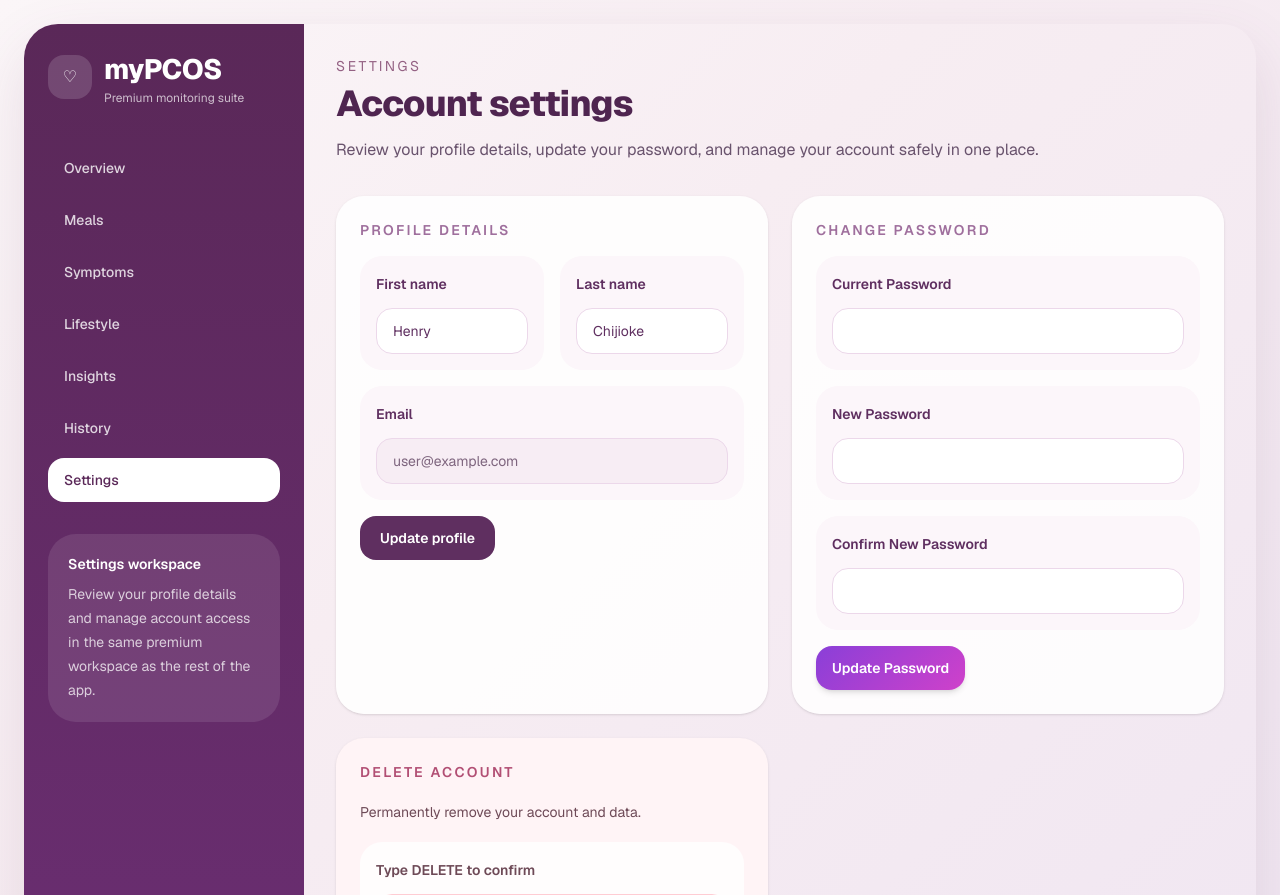
Test: submits the profile details form
Replace the text in the field labelled "First name" with "Ada" at (452, 331), box [376, 308, 528, 354]
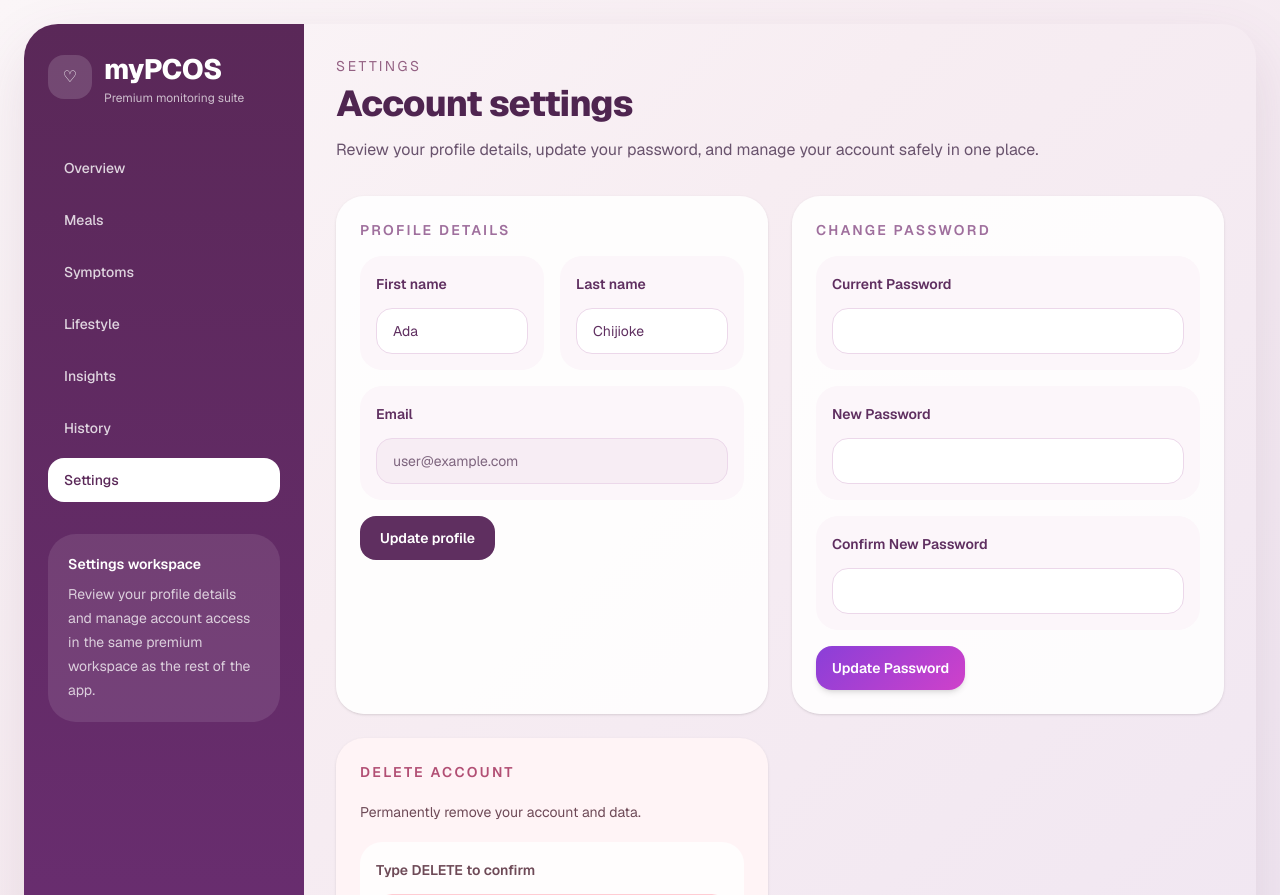
Replace the text in the field labelled "Last name" with "Okafor" at (652, 331), box [576, 308, 728, 354]
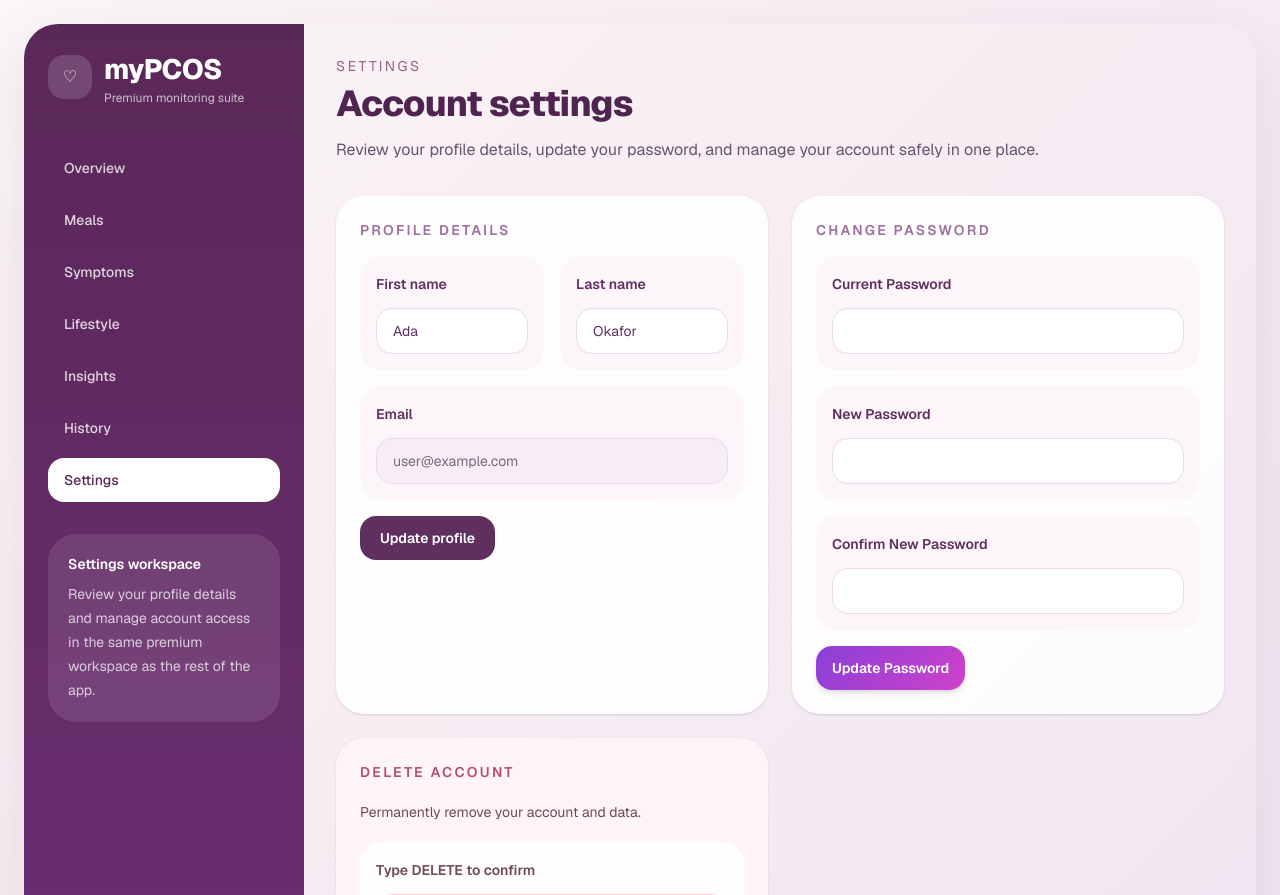
Click the button "Update profile".
click(428, 538)  # box [360, 516, 495, 560]
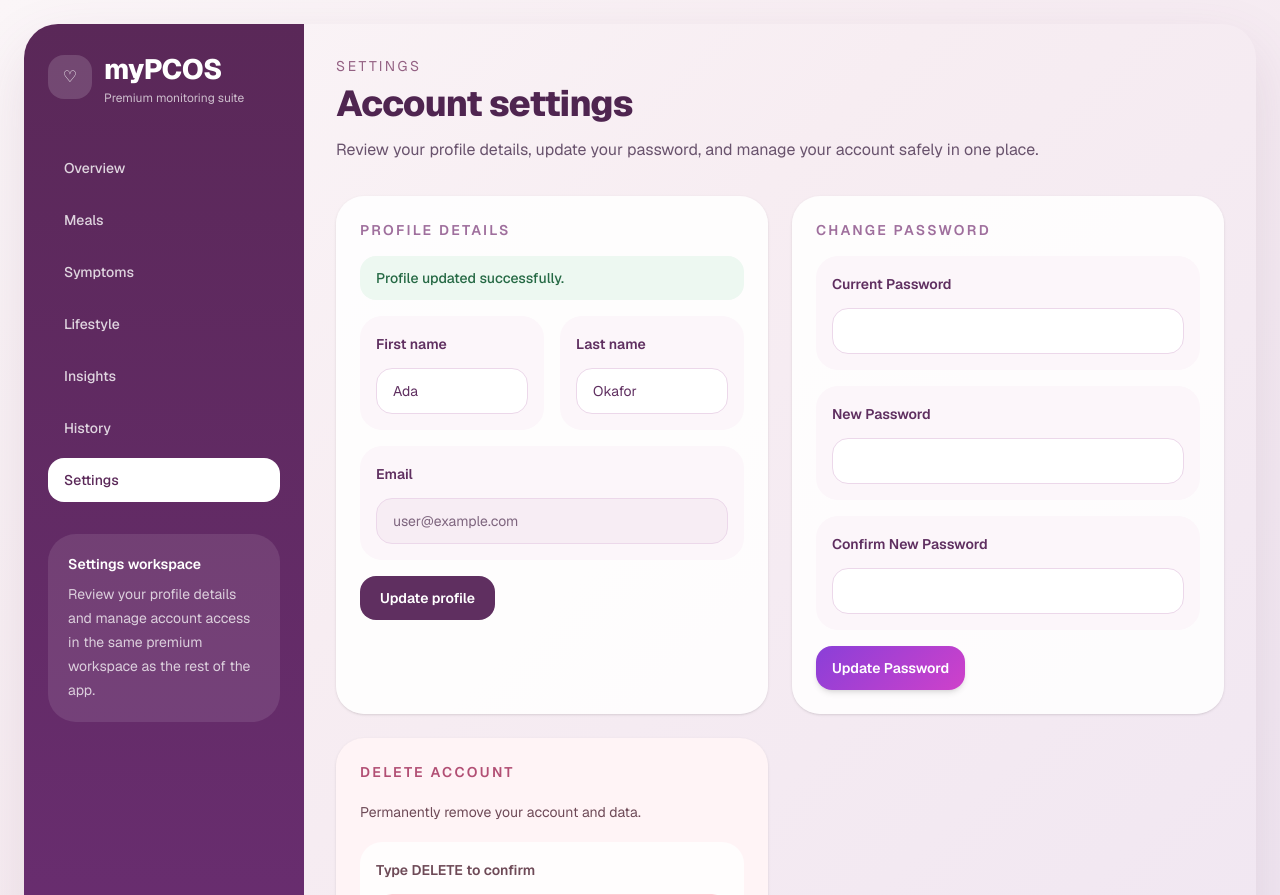
Now the text "Profile updated successfully." is shown, box [360, 256, 744, 300]
